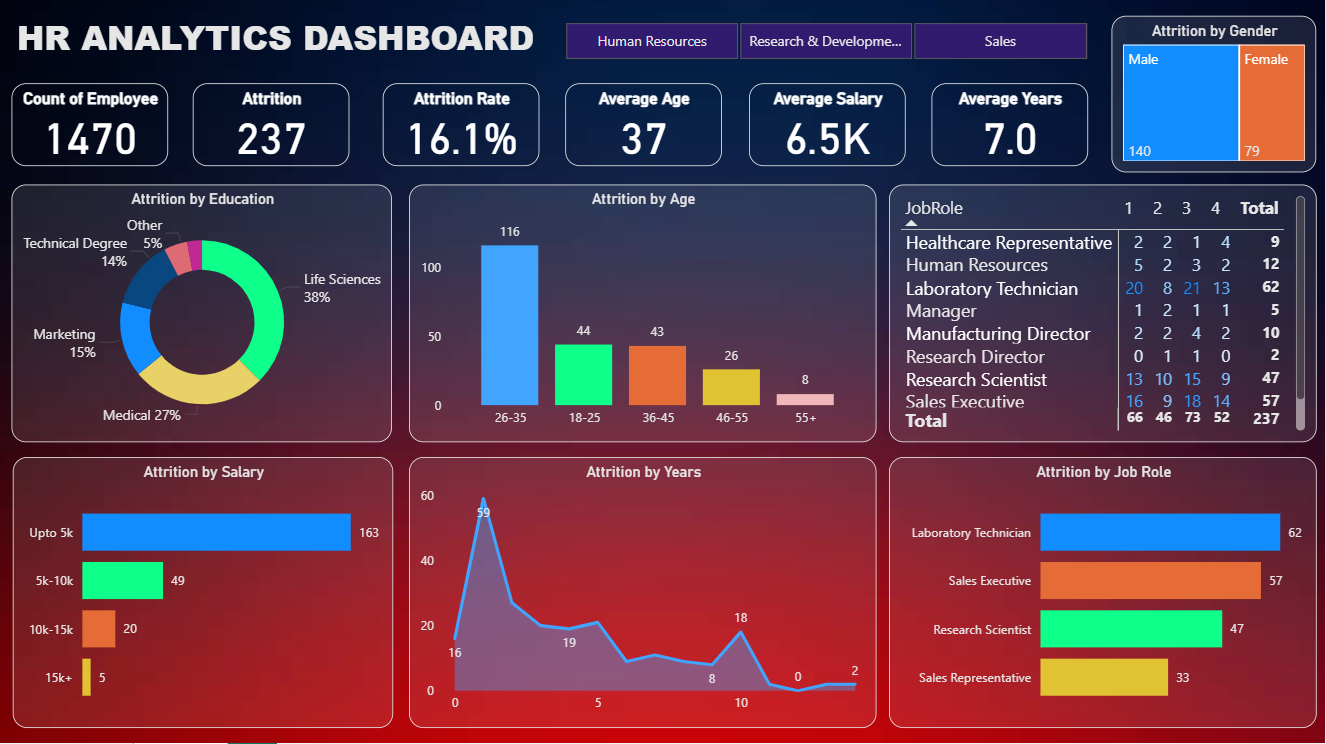

Layout of this report page (visuals, bound fields, positions):
{"tool":"powerbi","page":{"name":"Page 1","canvas":[1280,720],"ordinal":0},"visuals":[{"type":"card","title":"Count of Employee","fields":{"Values":["Count(HR_Analytics.EmpID)"]},"box":[12.5,83.8,151.2,80],"z":0},{"type":"card","title":"Attrition","fields":{"Values":["Sum(HR_Analytics.AttritionCount)"]},"box":[187.5,83.8,151.2,80],"z":1000},{"type":"card","title":"Attrition Rate","fields":{"Values":["HR_Analytics.AttritionRate"]},"box":[370,83.8,151.2,80],"z":2000},{"type":"card","title":"Average Age","fields":{"Values":["Avg(HR_Analytics.Age)"]},"box":[546.2,83.8,151.2,80],"z":3000},{"type":"card","title":"Average Years","fields":{"Values":["Avg(HR_Analytics.YearsAtCompany)"]},"box":[900,83.8,151.2,80],"z":4000},{"type":"card","title":"Average Salary","fields":{"Values":["Avg(HR_Analytics.MonthlyIncome)"]},"box":[723.8,83.8,151.2,80],"z":5000},{"type":"donutChart","title":"Attrition by Education","fields":{"Category":["HR_Analytics.EducationField"],"Y":["Sum(HR_Analytics.AttritionCount)"]},"box":[12.5,181.2,367.5,248.8],"z":6000},{"type":"columnChart","title":"Attrition by Age","fields":{"Category":["HR_Analytics.AgeGroup"],"Y":["Sum(HR_Analytics.AttritionCount)"]},"box":[396.2,181.2,451.2,248.8],"z":7000},{"type":"pivotTable","fields":{"Rows":["HR_Analytics.JobRole"],"Columns":["HR_Analytics.JobSatisfaction"],"Values":["Sum(HR_Analytics.AttritionCount)"]},"box":[859,181,412.6,248.5],"z":8000},{"type":"barChart","title":"Attrition by Salary","fields":{"Category":["HR_Analytics.SalarySlab"],"Y":["Sum(HR_Analytics.AttritionCount)"]},"box":[12.9,444.3,367.1,261.4],"z":9000},{"type":"barChart","title":"Attrition by Job Role","fields":{"Y":["Sum(HR_Analytics.AttritionCount)"],"Category":["HR_Analytics.JobRole"]},"box":[858.6,444.3,412.9,261.4],"z":10000},{"type":"areaChart","title":"Attrition by Years","fields":{"Category":["HR_Analytics.YearsAtCompany"],"Y":["Sum(HR_Analytics.AttritionCount)"]},"box":[395.7,444.3,451.4,261.4],"z":11000},{"type":"treemap","title":"Attrition by Gender","fields":{"Group":["HR_Analytics.Gender"],"Values":["Sum(HR_Analytics.AttritionCount)"]},"box":[1073.8,17.5,197.5,151.2],"z":12000},{"type":"slicer","fields":{"Values":["HR_Analytics.Department"]},"box":[521.2,17.5,552.5,48.8],"z":13000},{"type":"textbox","box":[12.5,11.2,557.5,62.5],"z":14000}]}

Visuals, with their boxes in screenshot pixels (x1, y1, x2, y2), scaled from the page's 1280x720 canvas onto the 1326x744 screenshot:
"Count of Employee" card: {"x1": 13, "y1": 87, "x2": 170, "y2": 169}
"Attrition" card: {"x1": 194, "y1": 87, "x2": 351, "y2": 169}
"Attrition Rate" card: {"x1": 383, "y1": 87, "x2": 540, "y2": 169}
"Average Age" card: {"x1": 566, "y1": 87, "x2": 722, "y2": 169}
"Average Years" card: {"x1": 932, "y1": 87, "x2": 1089, "y2": 169}
"Average Salary" card: {"x1": 750, "y1": 87, "x2": 906, "y2": 169}
"Attrition by Education" donutChart: {"x1": 13, "y1": 187, "x2": 394, "y2": 444}
"Attrition by Age" columnChart: {"x1": 410, "y1": 187, "x2": 878, "y2": 444}
pivotTable - HR_Analytics.JobRole x HR_Analytics.JobSatisfaction: {"x1": 890, "y1": 187, "x2": 1317, "y2": 444}
"Attrition by Salary" barChart: {"x1": 13, "y1": 459, "x2": 394, "y2": 729}
"Attrition by Job Role" barChart: {"x1": 889, "y1": 459, "x2": 1317, "y2": 729}
"Attrition by Years" areaChart: {"x1": 410, "y1": 459, "x2": 878, "y2": 729}
"Attrition by Gender" treemap: {"x1": 1112, "y1": 18, "x2": 1317, "y2": 174}
slicer - HR_Analytics.Department: {"x1": 540, "y1": 18, "x2": 1112, "y2": 69}
textbox: {"x1": 13, "y1": 12, "x2": 590, "y2": 76}
